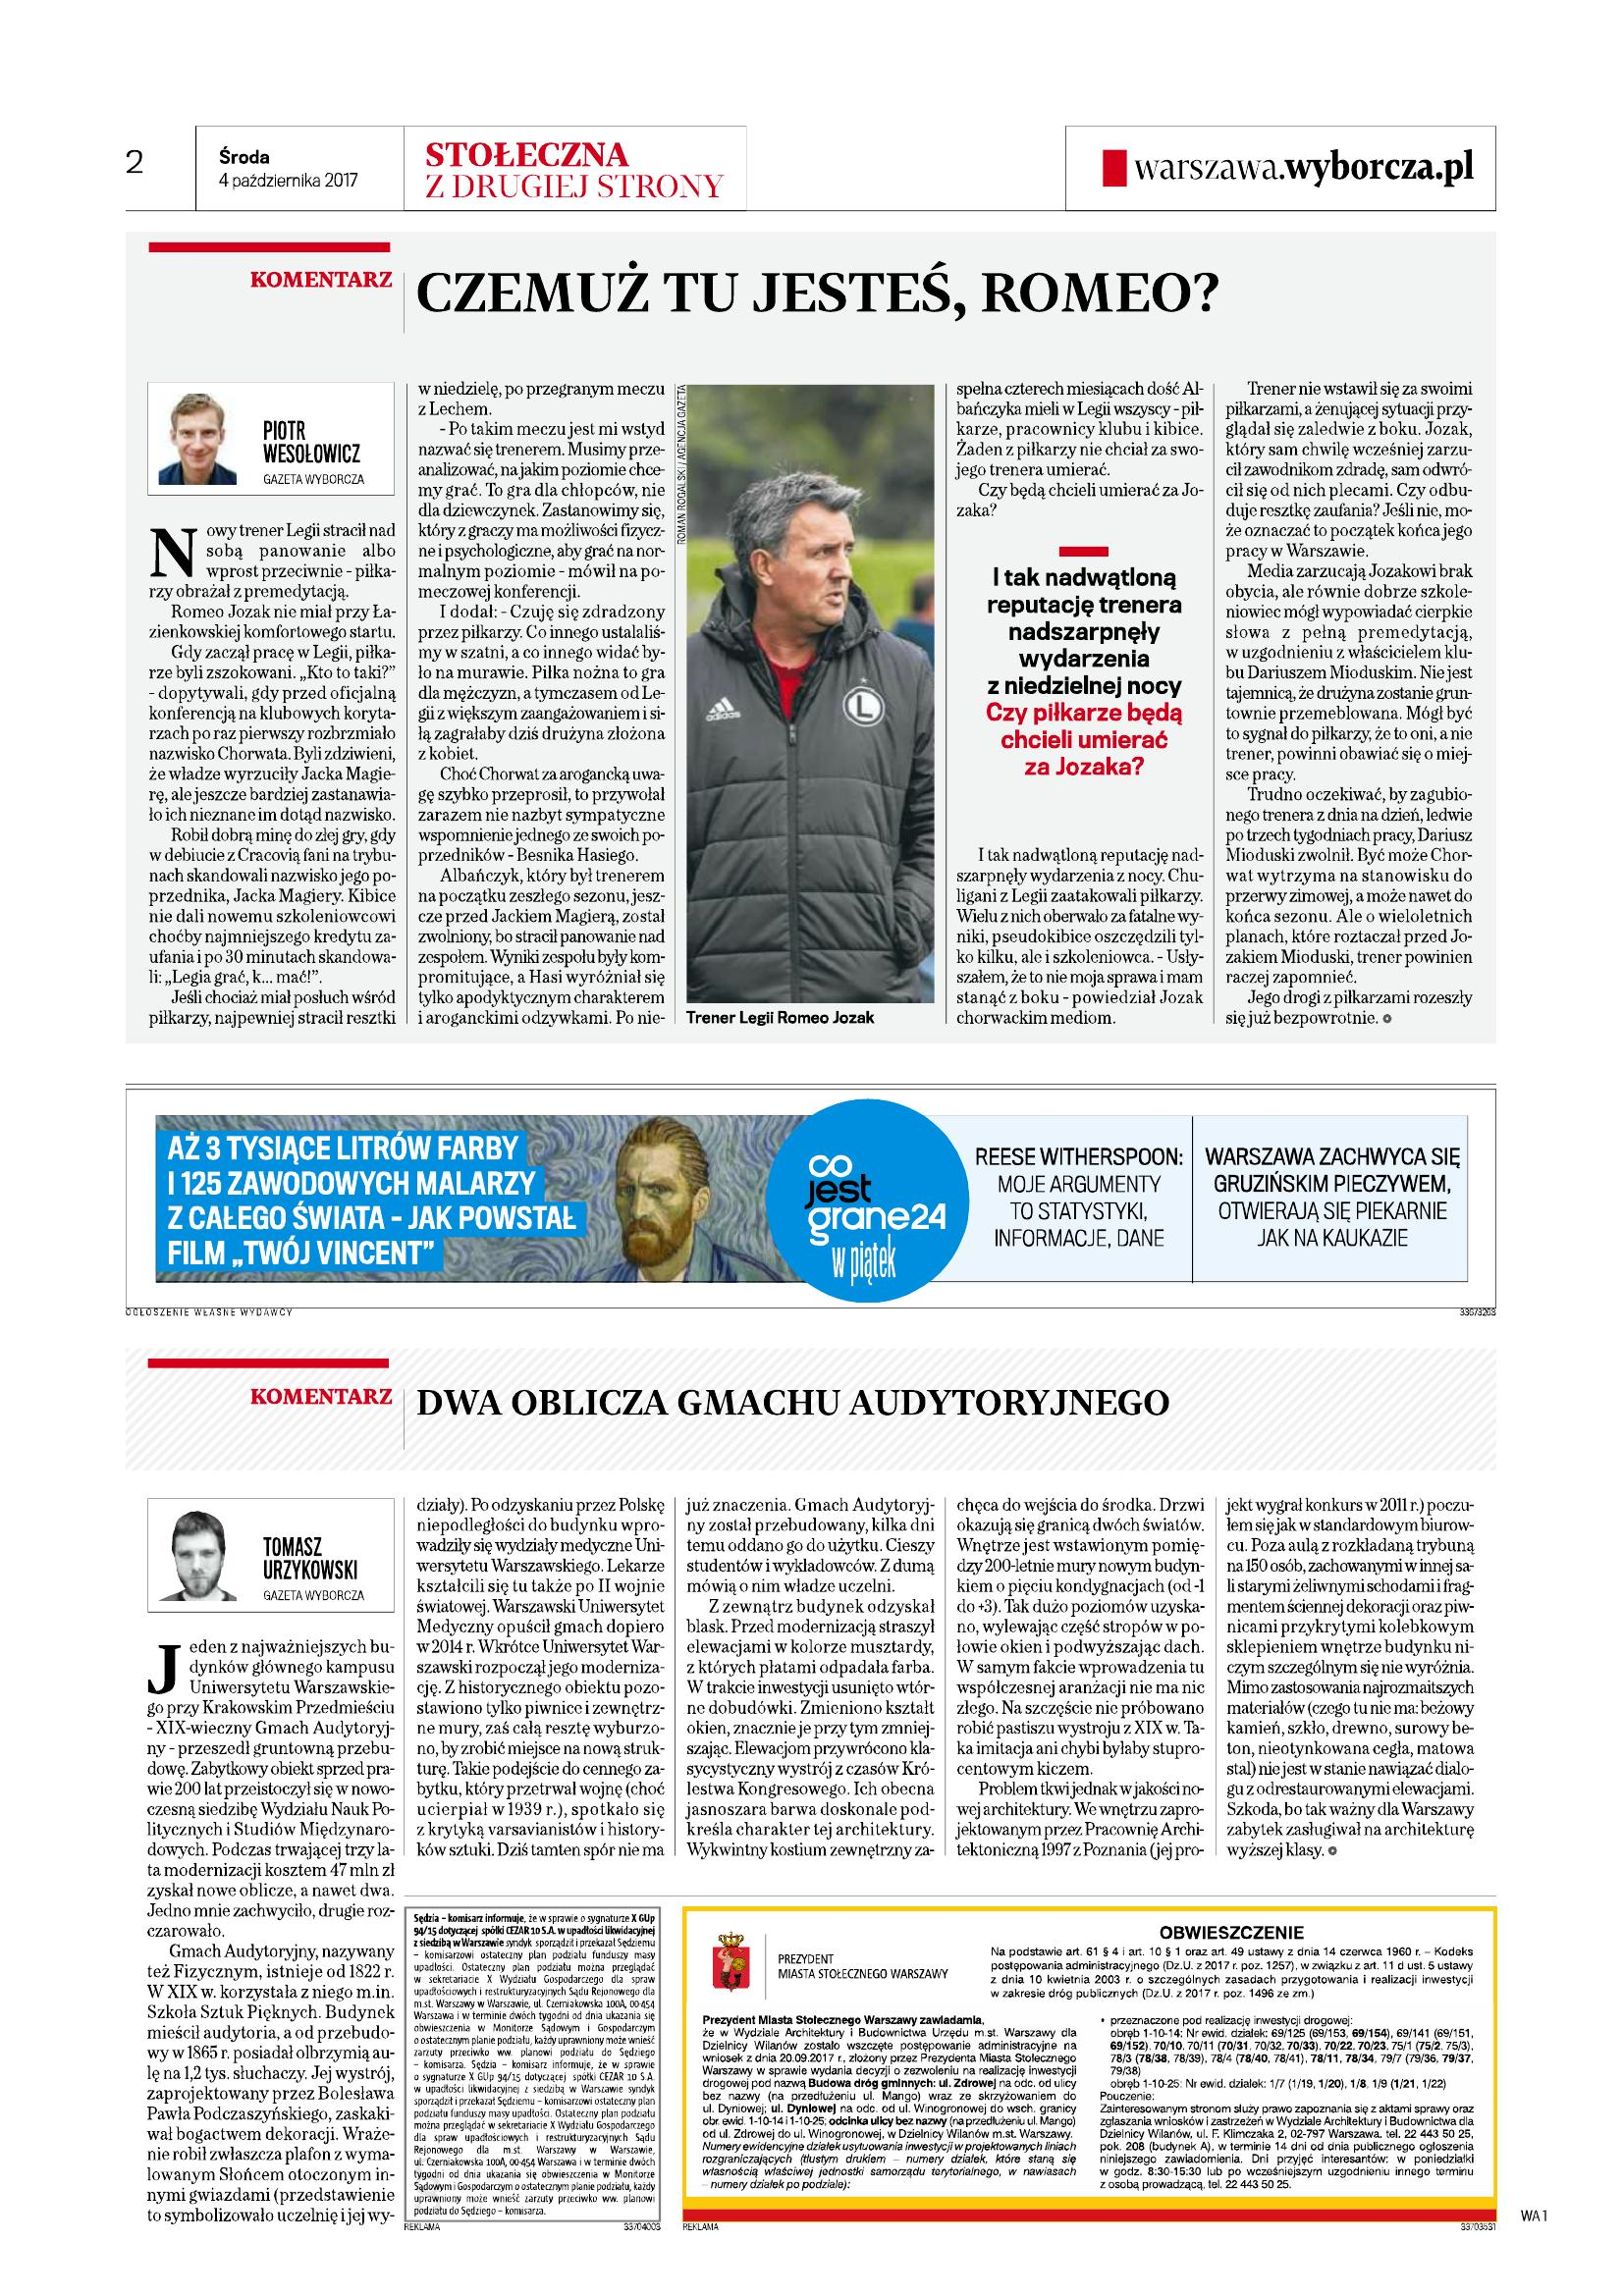article: (137, 1350, 1509, 2243), (130, 235, 1481, 1037)
